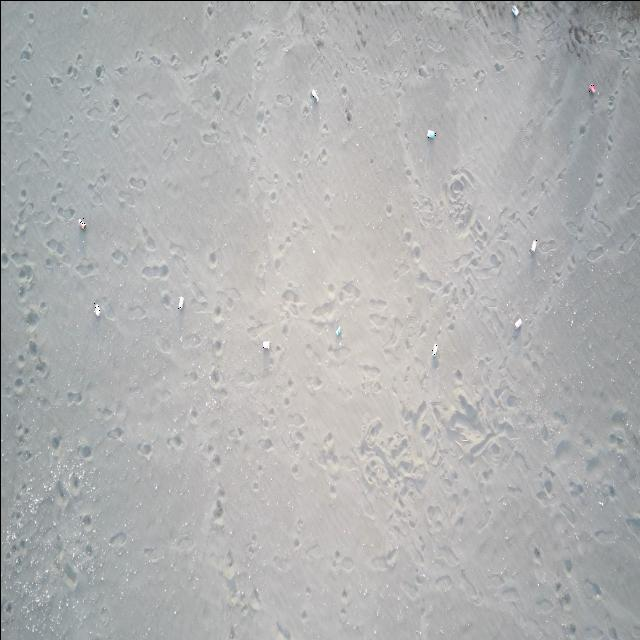Garbage: (311, 88, 318, 103), (94, 301, 100, 316), (427, 128, 435, 139), (529, 240, 536, 252), (77, 219, 84, 230), (511, 4, 517, 16), (587, 83, 595, 92), (261, 340, 268, 350), (513, 320, 522, 327), (335, 326, 340, 336), (432, 343, 436, 355), (179, 296, 183, 308)
